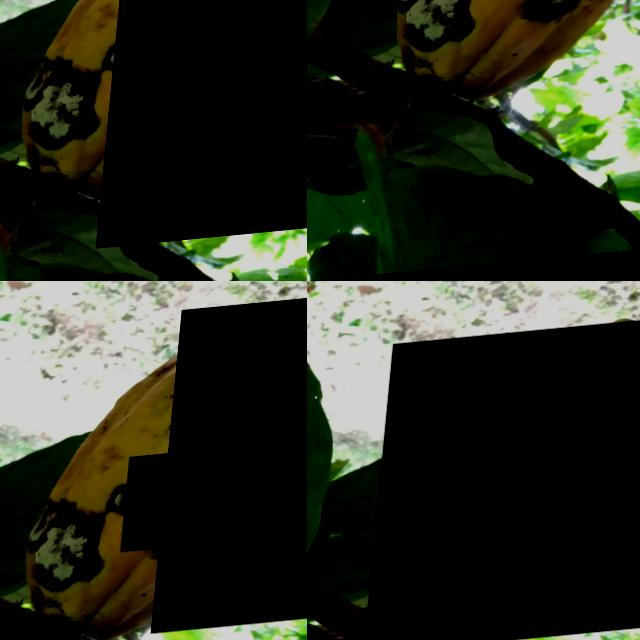Monilia: (373, 328, 640, 640)
Sana: (106, 0, 307, 254), (160, 302, 307, 640), (129, 460, 189, 559)
